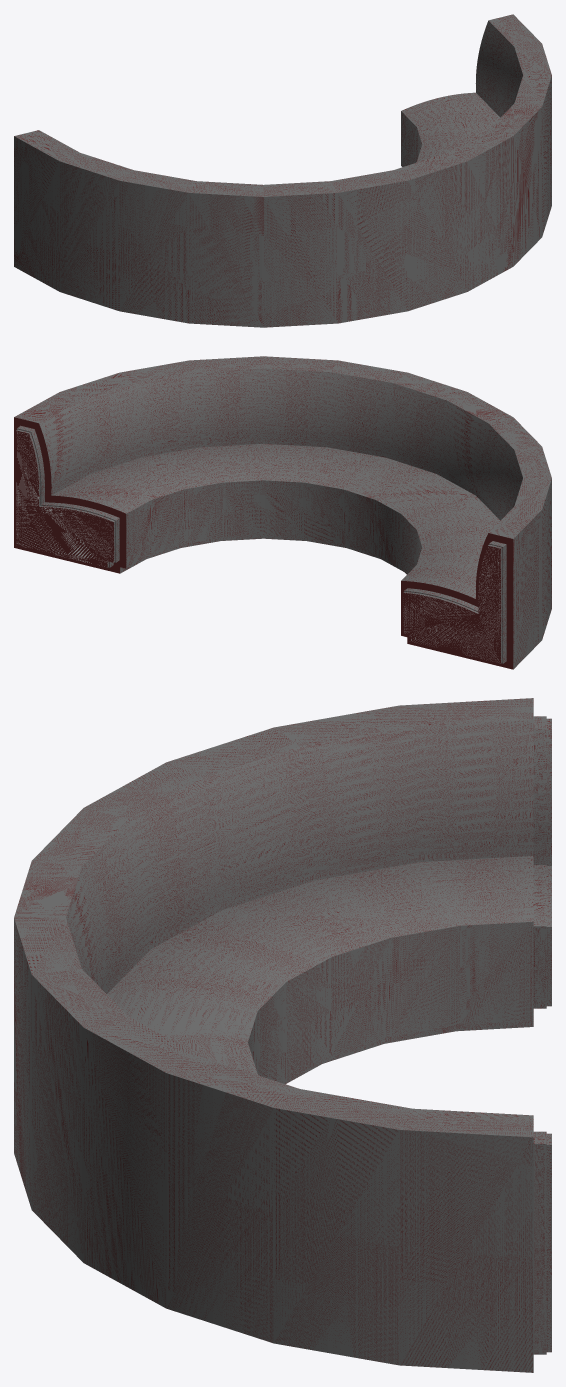
3 views of the same model, one above another, from view 1: azimuth 30°, elevation 25°; view 2: azimuth 150°, elevation 25°; view 3: azimuth 270°, elevation 25° (orthographic). The views are drawn at different scales.
Visible parts, largest first — view 1: mesh1_mesh1-geometry; view 2: mesh1_mesh1-geometry; view 3: mesh1_mesh1-geometry.
Boxes of the visible parts, bbox=[...] form: mesh1_mesh1-geometry: bbox=[14, 14, 551, 327]; mesh1_mesh1-geometry: bbox=[14, 356, 551, 669]; mesh1_mesh1-geometry: bbox=[14, 698, 551, 1372].
Size of the model in its own units: 0.867 by 0.2168 by 0.4487.
